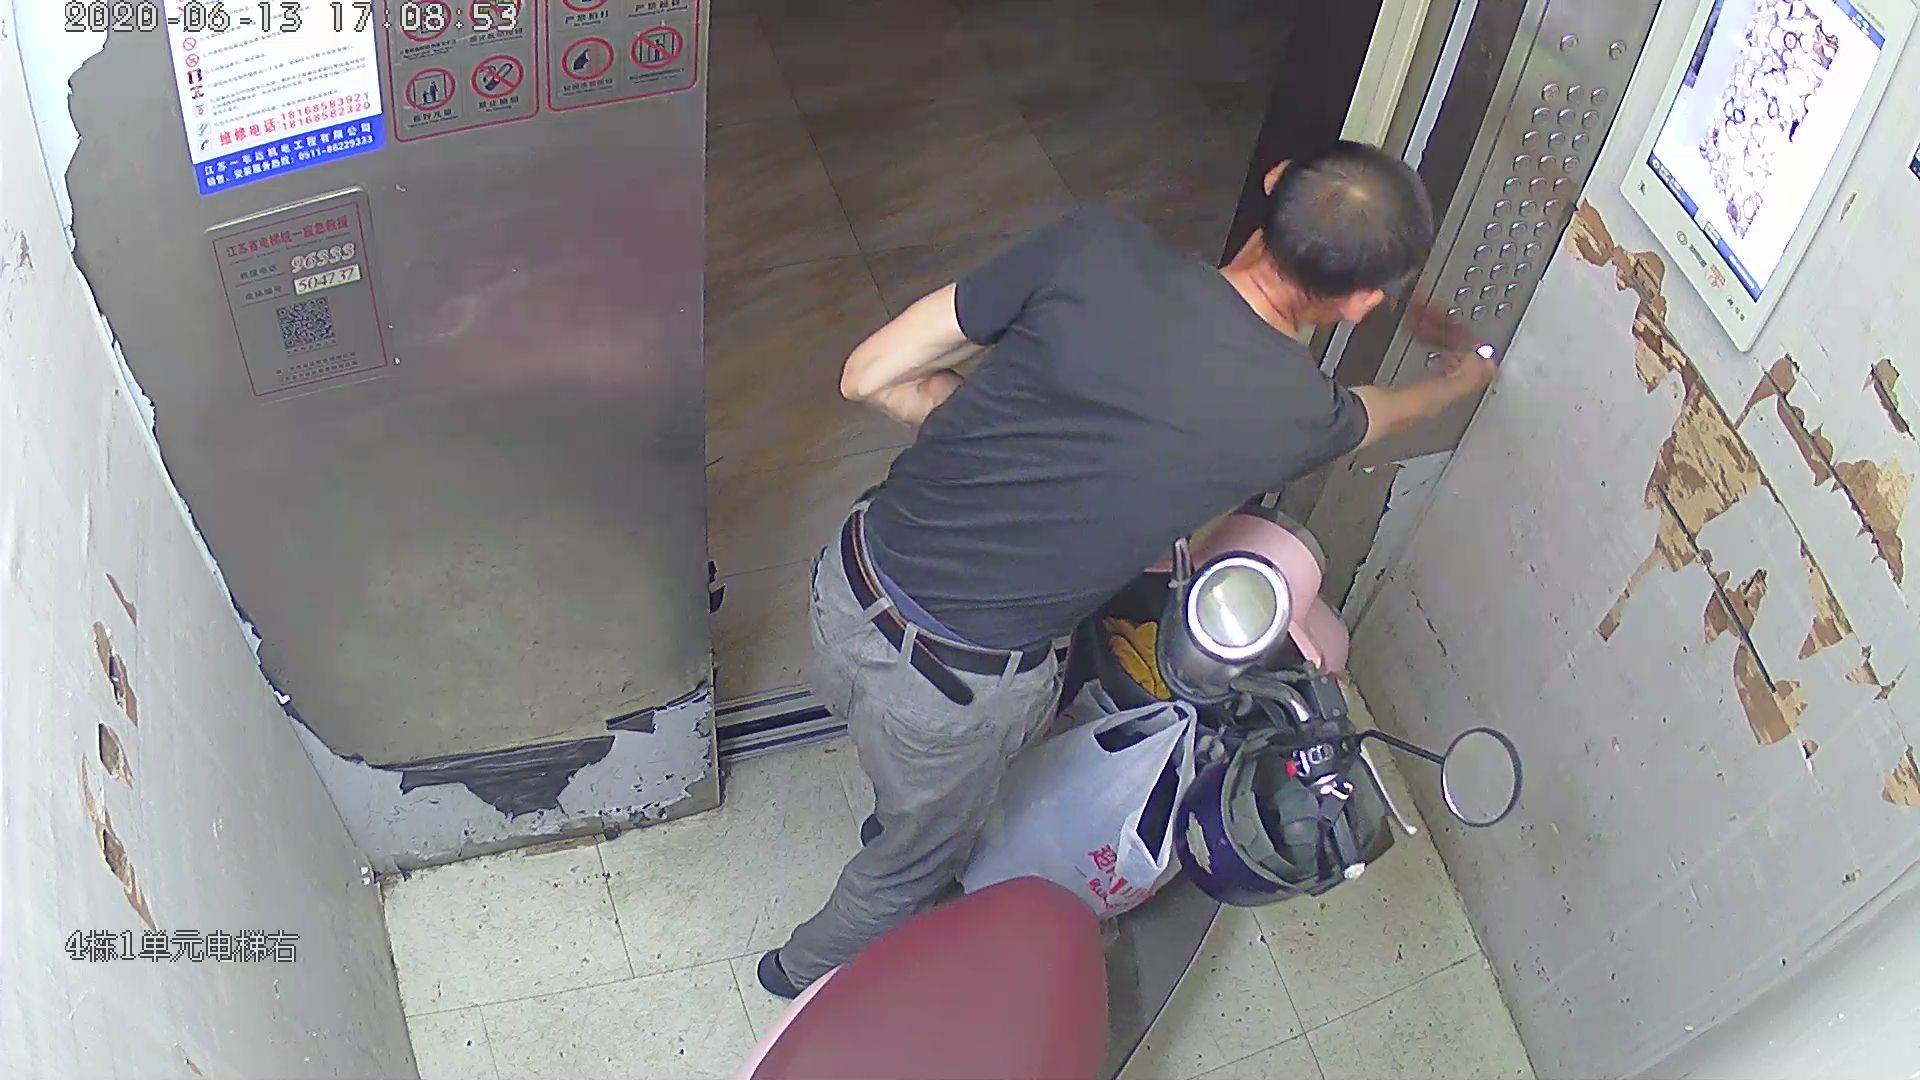Electric-bicycle: (764, 502, 1516, 1077)
